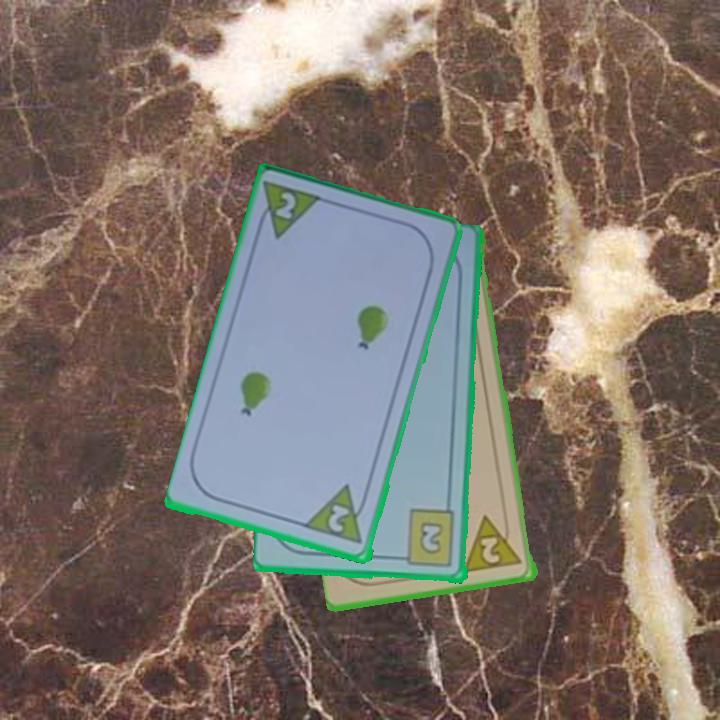2b: (394, 507, 458, 570)
2p: (252, 178, 327, 244), (303, 482, 372, 548), (462, 510, 526, 576)
